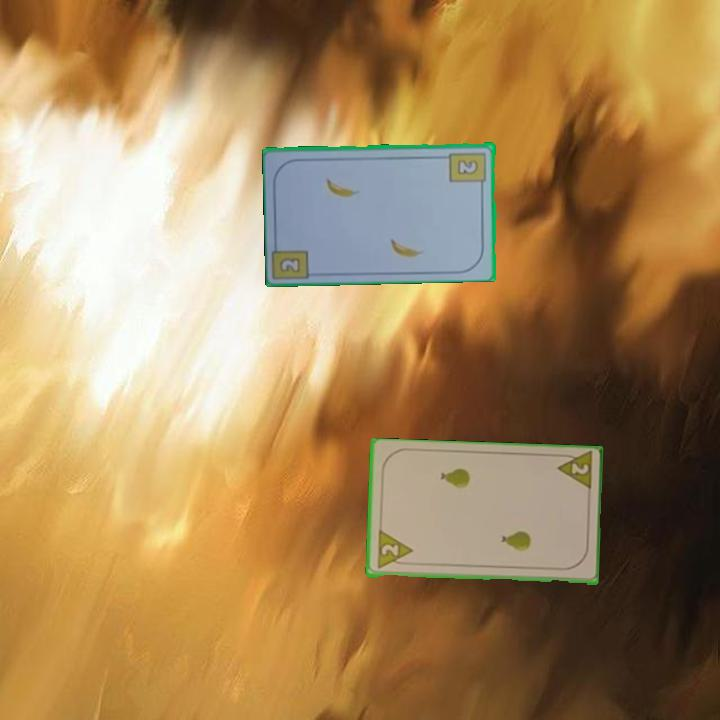2b: (447, 149, 489, 191), (278, 255, 301, 273)
2p: (553, 450, 595, 495), (374, 529, 415, 572)
